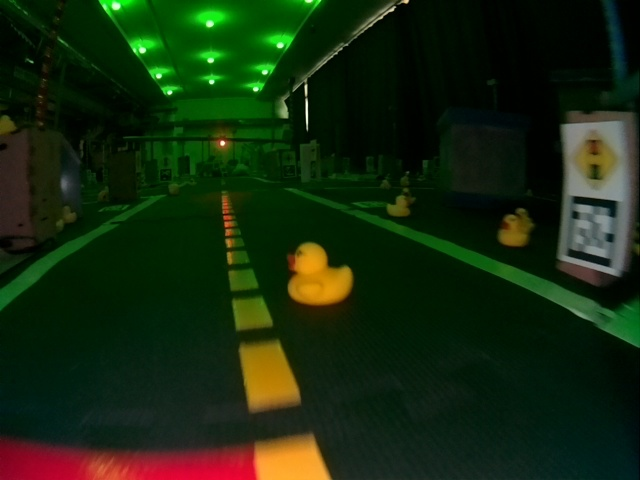Duckie: (287, 243, 354, 304), (498, 215, 525, 244), (516, 207, 534, 230), (387, 197, 408, 214), (64, 206, 76, 222), (3, 118, 16, 132), (403, 188, 416, 201)
QR code: (564, 197, 617, 269), (354, 199, 387, 208), (99, 203, 129, 212), (283, 165, 296, 177), (161, 169, 171, 179)
Signal sign: (567, 130, 623, 192)
Traffic light: (218, 138, 228, 146)
